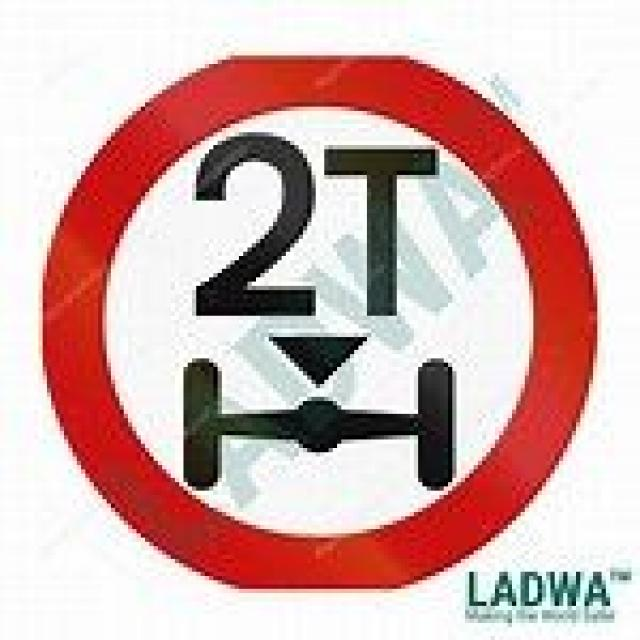AXLE_LOAD_LIMIT: (38, 51, 593, 593)
